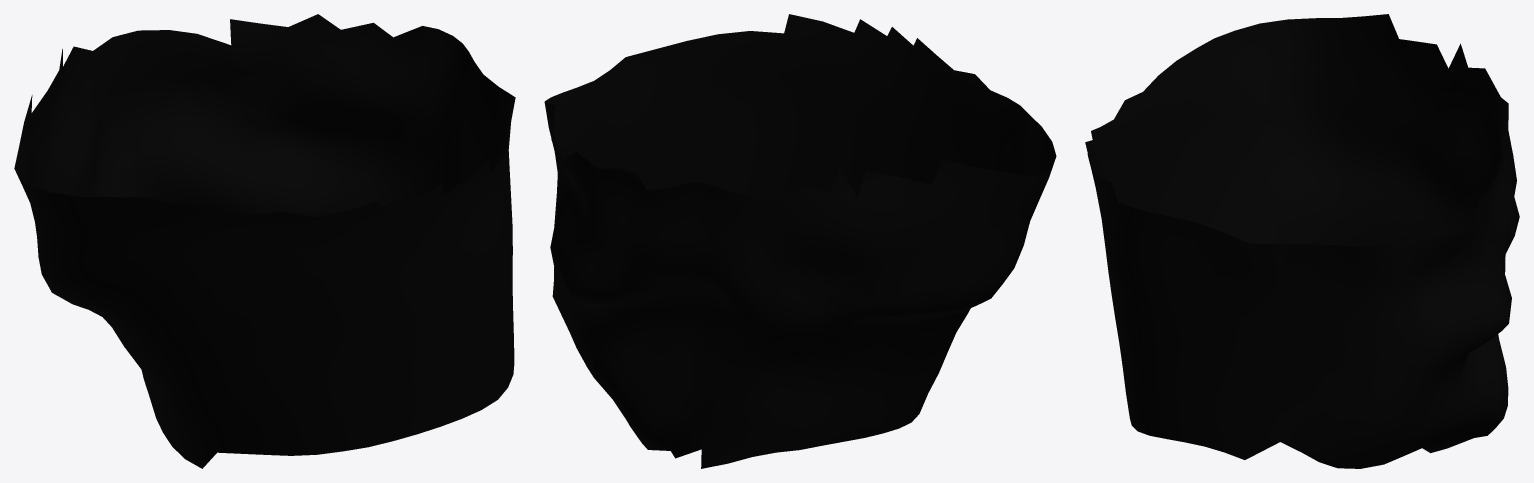
File: Pie2D.obj
3 views of the same model, side by side, from view 1: azimuth 30°, elevation 25°; view 2: azimuth 150°, elevation 25°; view 3: azimuth 270°, elevation 25° (orthographic). The views are drawn at different scales.
Parts seen in each view (by area): view 1: Pie2D; view 2: Pie2D; view 3: Pie2D.
Boxes of the visible parts, left/top/right/bottom form: Pie2D: left=14, top=14, right=515, bottom=468; Pie2D: left=544, top=14, right=1056, bottom=468; Pie2D: left=1085, top=14, right=1519, bottom=468.
Size of the model in its own units: 0.5973 by 0.4113 by 0.5019.
Materials: 1 (1 with a texture image).
